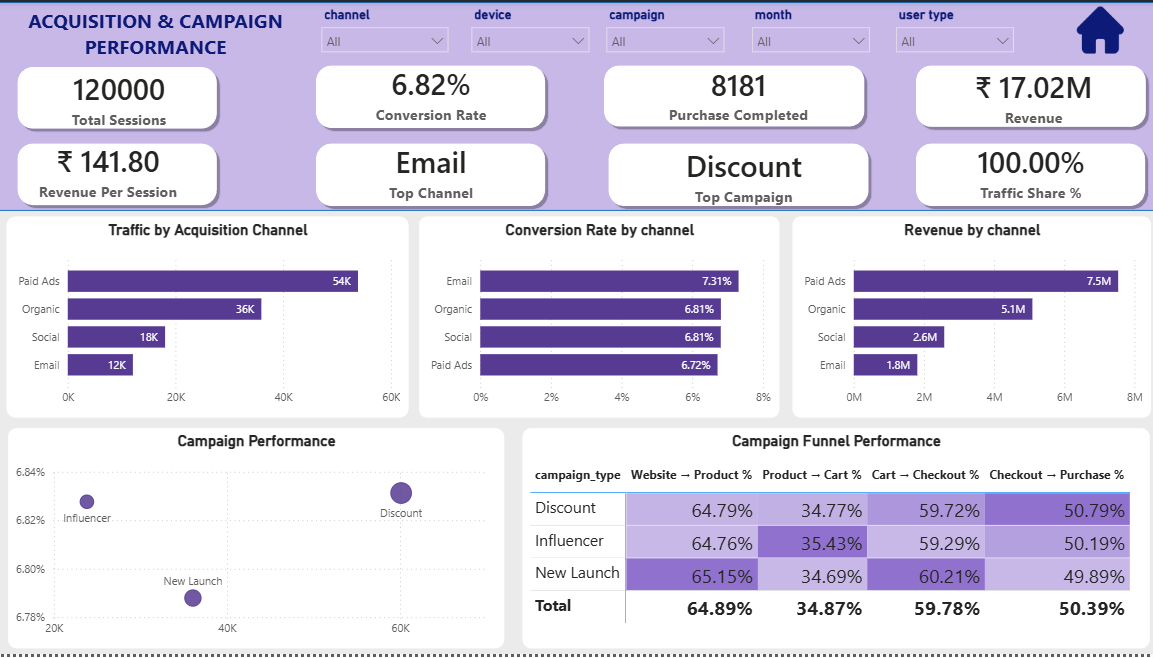

Layout of this report page (visuals, bound fields, positions):
{"tool":"powerbi","page":{"name":"Acquisition & Segmentation","canvas":[1280,720],"ordinal":1},"visuals":[{"type":"shape","box":[0,0,1281.5,230.6],"z":0},{"type":"shape","box":[662.5,64,298.4,78.3],"z":0,"group":"g2"},{"type":"shape","box":[1006.9,64.3,264.7,78.7],"z":0,"group":"g3"},{"type":"shape","box":[345.2,64.4,263.9,80],"z":0,"group":"g4"},{"type":"shape","box":[14.7,65.5,231.1,79],"z":0,"group":"g1"},{"type":"shape","box":[345.1,150.4,263.9,80],"z":0,"group":"g6"},{"type":"shape","box":[1006.9,150.7,263.9,80],"z":0,"group":"g8"},{"type":"shape","box":[15.2,150.8,231.1,79],"z":0,"group":"g5"},{"type":"shape","box":[667,150.8,298,80],"z":0,"group":"g7"},{"type":"textbox","box":[0,0,345.9,67.4],"z":1000},{"type":"cardVisual","fields":{"Data":["_measures.Purchase Completed"]},"box":[667.2,44,298.4,114.6],"z":1000,"group":"g2"},{"type":"cardVisual","fields":{"Data":["_measures.Convertion Rate"]},"box":[379.1,50,199.1,103.1],"z":1000,"group":"g4"},{"type":"cardVisual","fields":{"Data":["_measures.Revenue"]},"box":[1026.8,52.8,231.6,103.7],"z":1000,"group":"g3"},{"type":"cardVisual","fields":{"Data":["_measures.Total Sessions"]},"box":[32,53.9,202.2,104],"z":1000,"group":"g1"},{"type":"cardVisual","fields":{"Data":["_measures.Revenue Per Session"]},"box":[14.7,134,211,104.4],"z":1000,"group":"g5"},{"type":"cardVisual","fields":{"Data":["_measures.Top Channel"]},"box":[379,136,199.1,103.1],"z":1000,"group":"g6"},{"type":"cardVisual","fields":{"Data":["_measures.Traffic Share %"]},"box":[1040.8,136.3,199.1,103.1],"z":1000,"group":"g8"},{"type":"cardVisual","fields":{"Data":["_measures.Top Campaign"]},"box":[709.4,141.8,224.4,100],"z":1000,"group":"g7"},{"type":"slicer","title":"Channel slicer","fields":{"Values":["final_d2c_marketing_funnel_data.channel"]},"box":[345.9,0,160.1,57.2],"z":5000},{"type":"slicer","title":"device slicer","fields":{"Values":["final_d2c_marketing_funnel_data.device"]},"box":[511.3,0,150.3,57.2],"z":6000},{"type":"group","id":"g1","title":"Total Sessions","box":[14.7,53.9,231.9,102.9],"z":8000},{"type":"group","id":"g2","title":"Purchase Completed","box":[662.5,44,303.4,114.3],"z":10000},{"type":"group","id":"g3","title":"Revenue","box":[1006.9,52.8,263.8,102.6],"z":11000},{"type":"group","id":"g4","title":"Convertion Rate","box":[345.2,50,263.3,102.3],"z":12000},{"type":"barChart","title":"Conversion Rate by channel","fields":{"Category":["final_d2c_marketing_funnel_data.channel"],"Y":["_measures.Convertion Rate"]},"box":[463.4,237.1,398.1,221.9],"z":19000},{"type":"scatterChart","title":"Campaign Performance","fields":{"Category":["final_d2c_marketing_funnel_data.campaign_type"],"X":["_measures.Total Sessions"],"Y":["_measures.Convertion Rate"],"Size":["_measures.Revenue"]},"box":[9.2,470,547.9,243],"z":20000},{"type":"slicer","title":"device slicer","fields":{"Values":["final_d2c_marketing_funnel_data.campaign_type"]},"box":[661.4,0,150.3,57.2],"z":21000},{"type":"slicer","title":"device slicer","fields":{"Values":["final_d2c_marketing_funnel_data.month_name"]},"box":[822.4,0,150.1,67.4],"z":22000},{"type":"slicer","title":"device slicer","fields":{"Values":["final_d2c_marketing_funnel_data.user_type"]},"box":[981.2,0,150.1,67.4],"z":23000},{"type":"group","id":"g5","title":"Revenue Per Sessions","box":[14.7,134,231.6,104.4],"z":24000},{"type":"group","id":"g6","title":"Top Channel","box":[345.1,136,263.2,102.8],"z":25000},{"type":"image","box":[1156,5.8,120.1,52],"z":26000},{"type":"group","id":"g7","title":"Top Campaign","box":[667,141.8,298,100],"z":27000},{"type":"group","id":"g8","title":"Top Campaign","box":[1006.9,136.3,263.8,101.1],"z":28000},{"type":"barChart","title":"Traffic by Acquisition Channel","fields":{"Category":["final_d2c_marketing_funnel_data.channel"],"Y":["_measures.Total Sessions"]},"box":[8,237.1,443.8,221.9],"z":29000},{"type":"barChart","fields":{"Category":["final_d2c_marketing_funnel_data.channel"],"Y":["_measures.Revenue"]},"box":[876.8,237.1,396,221.9],"z":30000},{"type":"pivotTable","title":"Campaign Funnel Performance","fields":{"Rows":["final_d2c_marketing_funnel_data.campaign_type"],"Values":["_measures.Website → Product %","_measures.Product → Cart %","_measures.Cart → Checkout %","_measures.Checkout → Purchase %"]},"box":[577.7,470,692.3,243],"z":31000}]}

Visuals, with their boxes in screenshot pixels (x1, y1, x2, y2), scaled from the page's 1280x720 canvas onto the 1153x658 screenshot:
shape: [left=0, top=0, right=1152, bottom=211]
shape: [left=597, top=58, right=866, bottom=130]
shape: [left=907, top=59, right=1145, bottom=131]
shape: [left=311, top=59, right=549, bottom=132]
shape: [left=13, top=60, right=221, bottom=132]
shape: [left=311, top=137, right=549, bottom=211]
shape: [left=907, top=138, right=1145, bottom=211]
shape: [left=14, top=138, right=222, bottom=210]
shape: [left=601, top=138, right=869, bottom=211]
textbox: [left=0, top=0, right=312, bottom=62]
cardVisual - _measures.Purchase Completed: [left=601, top=40, right=870, bottom=145]
cardVisual - _measures.Convertion Rate: [left=341, top=46, right=521, bottom=140]
cardVisual - _measures.Revenue: [left=925, top=48, right=1134, bottom=143]
cardVisual - _measures.Total Sessions: [left=29, top=49, right=211, bottom=144]
cardVisual - _measures.Revenue Per Session: [left=13, top=122, right=203, bottom=218]
cardVisual - _measures.Top Channel: [left=341, top=124, right=521, bottom=219]
cardVisual - _measures.Traffic Share %: [left=938, top=125, right=1117, bottom=219]
cardVisual - _measures.Top Campaign: [left=639, top=130, right=841, bottom=221]
"Channel slicer" slicer: [left=312, top=0, right=456, bottom=52]
"device slicer" slicer: [left=461, top=0, right=596, bottom=52]
"Total Sessions" group: [left=13, top=49, right=222, bottom=143]
"Purchase Completed" group: [left=597, top=40, right=870, bottom=145]
"Revenue" group: [left=907, top=48, right=1145, bottom=142]
"Convertion Rate" group: [left=311, top=46, right=548, bottom=139]
"Conversion Rate by channel" barChart: [left=417, top=217, right=776, bottom=419]
"Campaign Performance" scatterChart: [left=8, top=430, right=502, bottom=652]
"device slicer" slicer: [left=596, top=0, right=731, bottom=52]
"device slicer" slicer: [left=741, top=0, right=876, bottom=62]
"device slicer" slicer: [left=884, top=0, right=1019, bottom=62]
"Revenue Per Sessions" group: [left=13, top=122, right=222, bottom=218]
"Top Channel" group: [left=311, top=124, right=548, bottom=218]
image: [left=1041, top=5, right=1149, bottom=53]
"Top Campaign" group: [left=601, top=130, right=869, bottom=221]
"Top Campaign" group: [left=907, top=125, right=1145, bottom=217]
"Traffic by Acquisition Channel" barChart: [left=7, top=217, right=407, bottom=419]
barChart - final_d2c_marketing_funnel_data.channel x _measures.Revenue: [left=790, top=217, right=1147, bottom=419]
"Campaign Funnel Performance" pivotTable: [left=520, top=430, right=1144, bottom=652]
